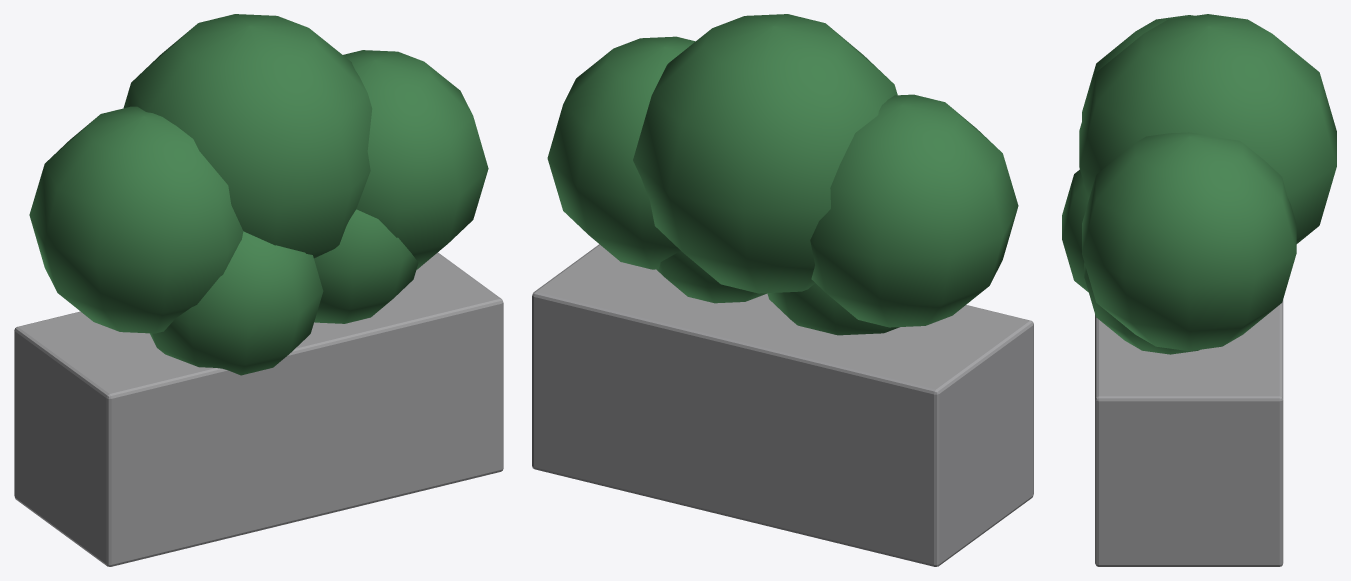
Rendered from prop_planter_shrub.glb.
The picture shows the model from 3 angles, left to right: view 1: azimuth 30°, elevation 25°; view 2: azimuth 150°, elevation 25°; view 3: azimuth 270°, elevation 25°; orthographic projection. The views are drawn at different scales.
Parts seen in each view (by area): view 1: planter_shrub.001, planter_box; view 2: planter_box, planter_shrub.001; view 3: planter_shrub.001, planter_box.
Part boxes in pixels (bbox=[...]): planter_shrub.001: bbox=[29, 14, 488, 375]; planter_box: bbox=[14, 252, 503, 566]; planter_box: bbox=[532, 244, 1033, 566]; planter_shrub.001: bbox=[547, 14, 1018, 335]; planter_shrub.001: bbox=[1062, 14, 1336, 354]; planter_box: bbox=[1095, 299, 1283, 566].
Size of the model in its own units: 1.3 by 1.31 by 0.7301.
